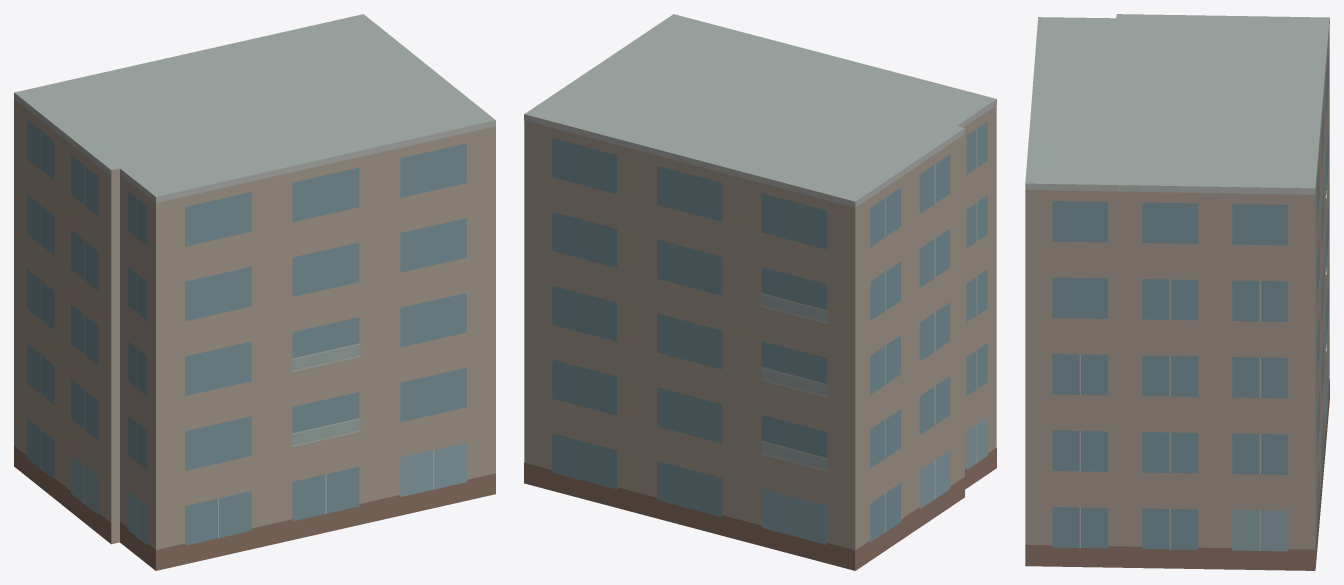
The model's file is survey-upis-32606850.glb.
3 views of the same model, side by side, from view 1: azimuth 30°, elevation 25°; view 2: azimuth 150°, elevation 25°; view 3: azimuth 270°, elevation 25° (orthographic). The views are drawn at different scales.
Visible parts, largest first — view 1: survey-upis-32606850.tmp; view 2: survey-upis-32606850.tmp; view 3: survey-upis-32606850.tmp.
Boxes of the visible parts, x1=… form: survey-upis-32606850.tmp: x1=14, y1=14, x2=495, y2=570; survey-upis-32606850.tmp: x1=524, y1=14, x2=996, y2=570; survey-upis-32606850.tmp: x1=1025, y1=14, x2=1329, y2=570.
Bounding box in the file's own units: 14.38 × 14.7 × 10.61.
